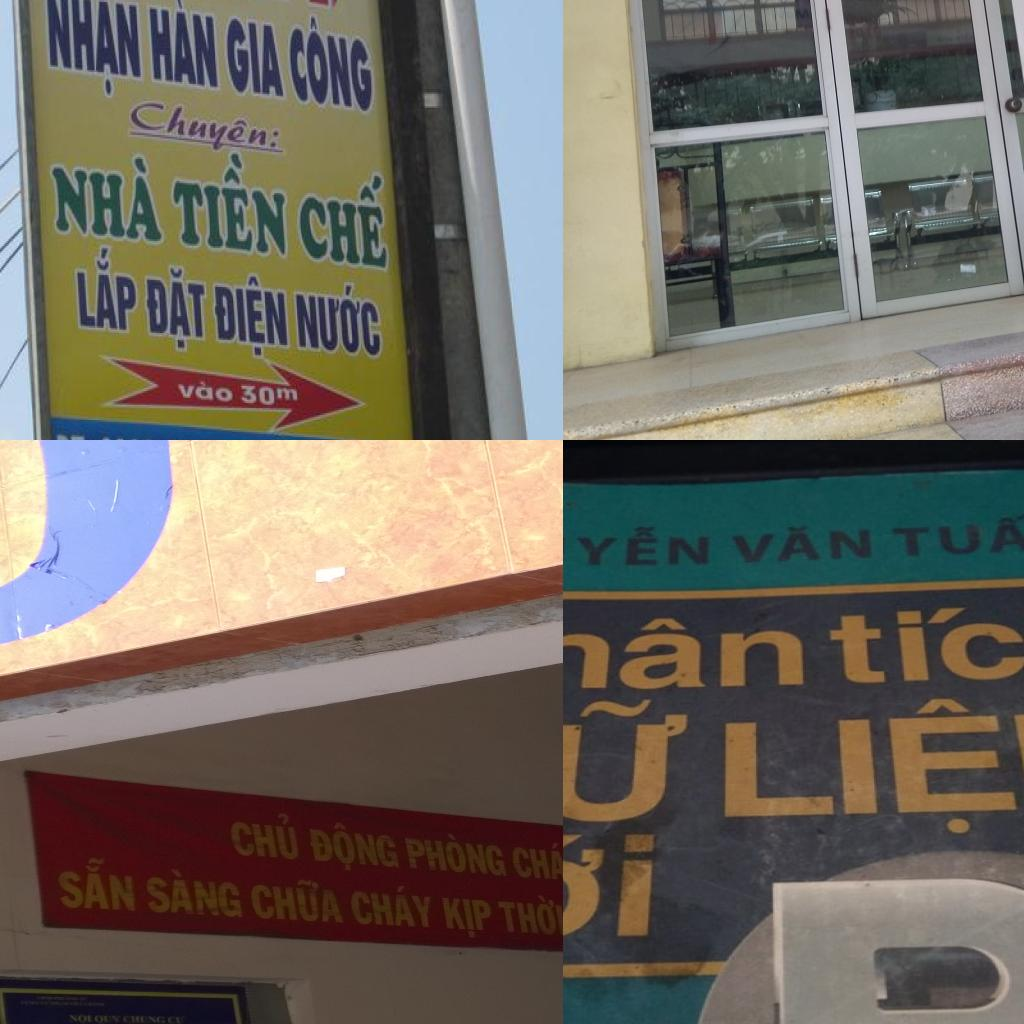text: (720, 688, 1024, 843), (0, 440, 183, 676), (767, 874, 1024, 1024), (563, 613, 810, 693), (563, 695, 700, 826), (828, 597, 1024, 686), (48, 136, 172, 248), (169, 150, 291, 263), (296, 160, 397, 278), (563, 831, 659, 945), (37, 0, 148, 97), (286, 12, 378, 116), (126, 99, 293, 154), (292, 276, 385, 364), (146, 0, 224, 97), (138, 256, 212, 355), (212, 276, 292, 364), (68, 242, 142, 336), (225, 5, 293, 106), (563, 523, 712, 567), (724, 523, 876, 566), (400, 828, 510, 878), (142, 866, 245, 919), (305, 820, 402, 872), (54, 854, 138, 912), (247, 875, 346, 924), (346, 881, 436, 928), (227, 807, 302, 862), (492, 891, 563, 936), (504, 837, 563, 883), (440, 896, 498, 939), (100, 426, 250, 440), (238, 379, 304, 410), (173, 376, 235, 408), (51, 421, 97, 440), (121, 1014, 167, 1024), (65, 1012, 93, 1024), (93, 1013, 122, 1024), (164, 1013, 189, 1024)
